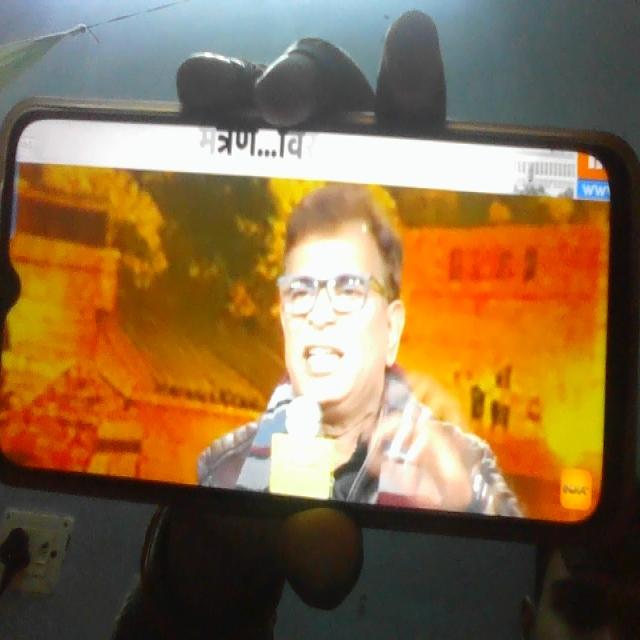fake: (267, 173, 402, 430)
